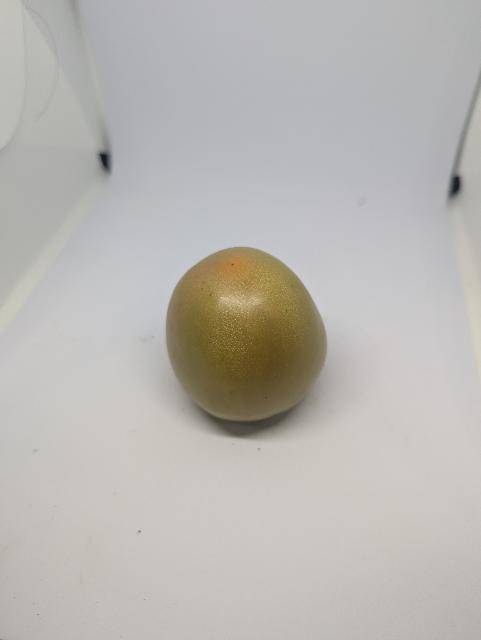breaker: (167, 247, 327, 421)
